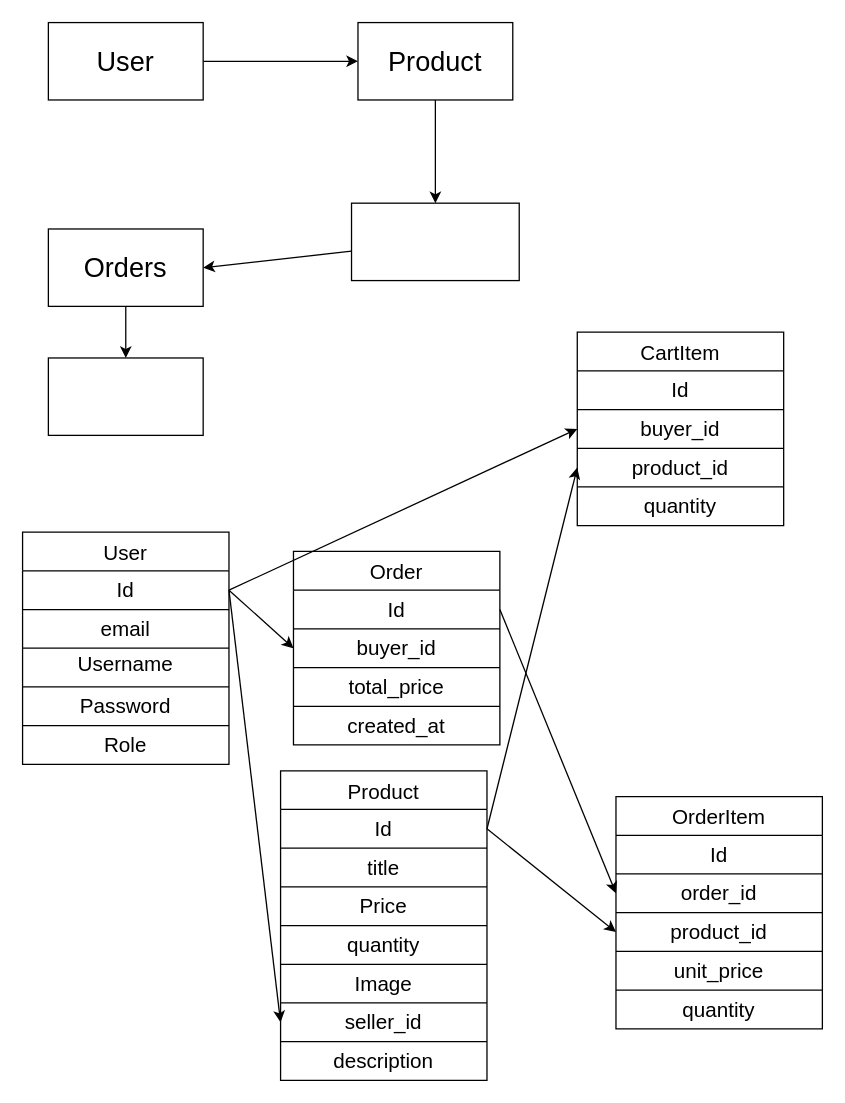
Some shapes in this 845 by 1103 pixel diagram are drawn without their labels. The centre of each missing label's shape, as x and y in pixels:
CartItems: the point at 434,241
OrdersItem: the point at 125,396
